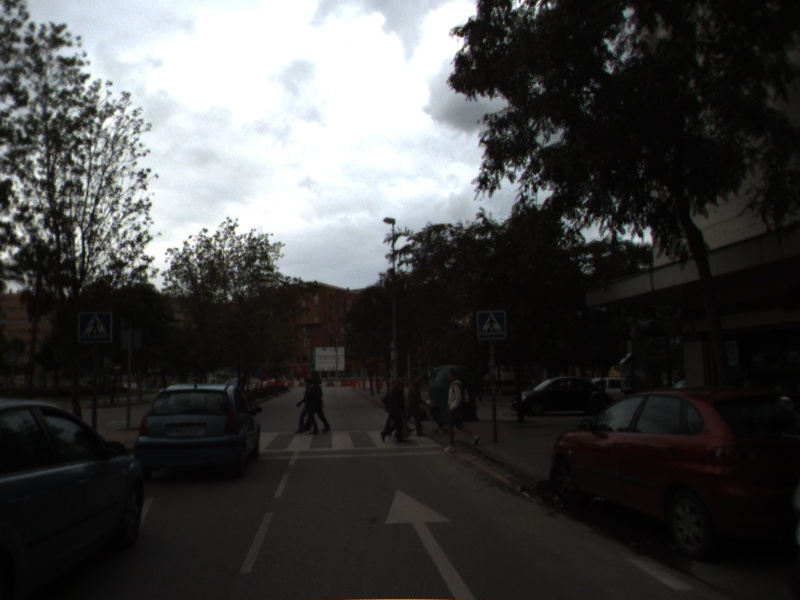STRAIGHT: (382, 486, 475, 600)
